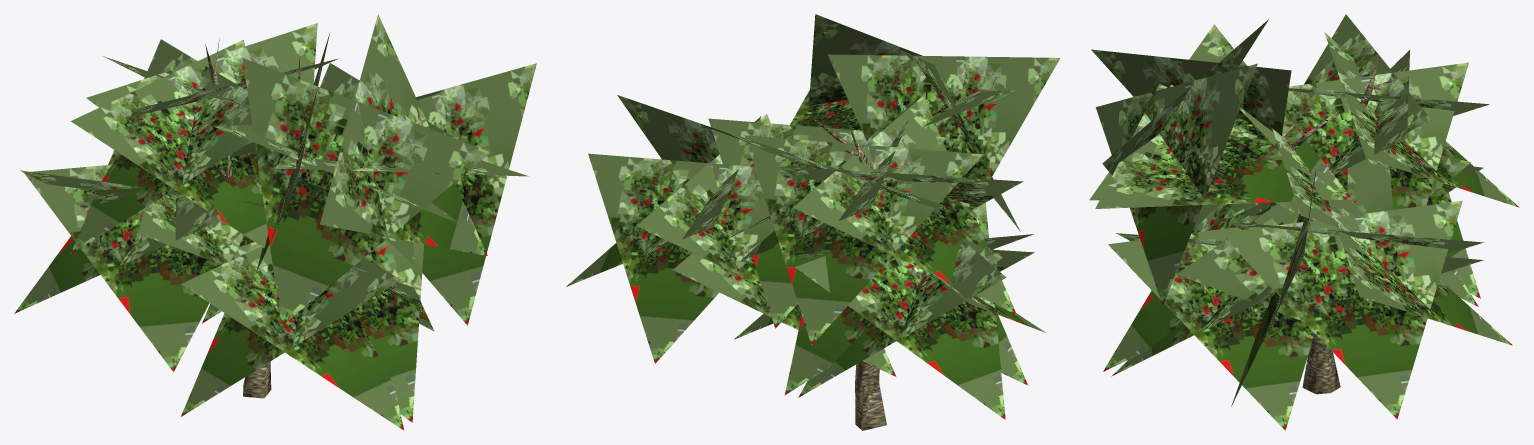
The model's file is apple_v3.glb.
3 renders of one model, left to right at view 1: azimuth 30°, elevation 25°; view 2: azimuth 150°, elevation 25°; view 3: azimuth 270°, elevation 25°, orthographic. The views are drawn at different scales.
Visible parts, largest first — view 1: canopy158, tree_apple_trunk_a; view 2: canopy158, tree_apple_trunk_a; view 3: canopy158, tree_apple_trunk_a.
Part boxes in pixels (<box>): canopy158: <box>14,14,536,430</box>; tree_apple_trunk_a: <box>199,38,300,398</box>; canopy158: <box>566,14,1060,419</box>; tree_apple_trunk_a: <box>808,114,886,430</box>; canopy158: <box>1089,14,1519,430</box>; tree_apple_trunk_a: <box>1291,62,1402,394</box>.
Size of the model in its own units: 3.25 by 2.52 by 2.68.
2 materials, 2 textured.
